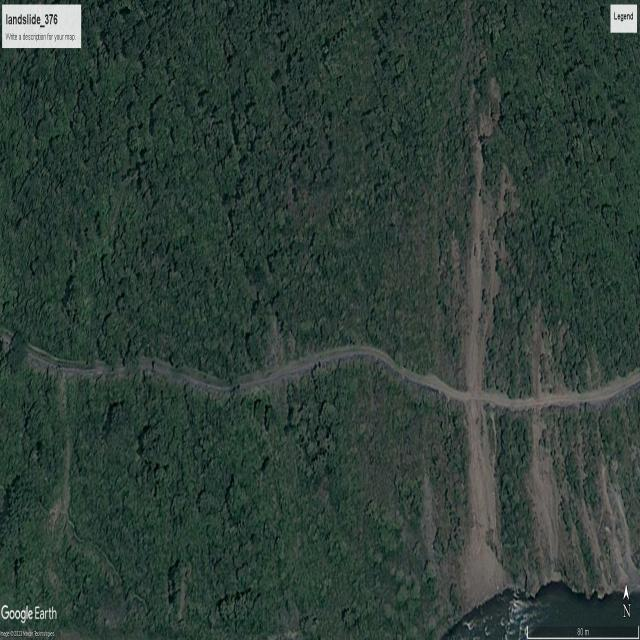Landslide: (455, 166, 516, 382), (458, 406, 512, 595)
